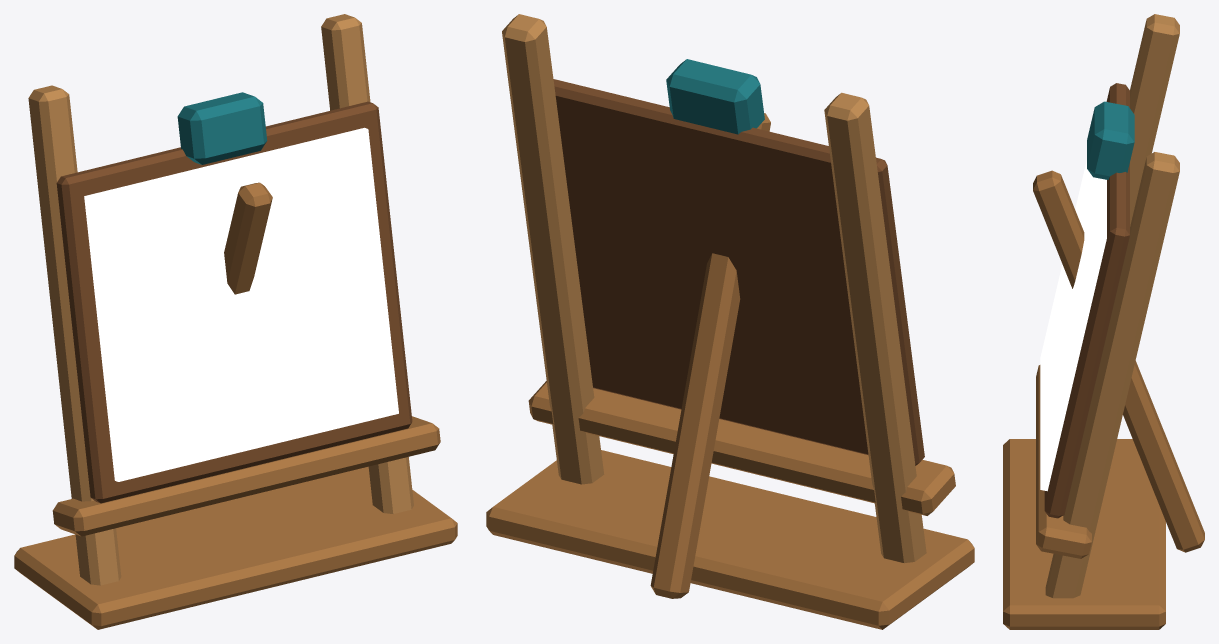
Rendered from easel_display.glb.
The picture shows the model from 3 angles, left to right: view 1: azimuth 30°, elevation 25°; view 2: azimuth 150°, elevation 25°; view 3: azimuth 270°, elevation 25°; orthographic projection. The views are drawn at different scales.
Visible parts, largest first — view 1: easel_display; view 2: easel_display; view 3: easel_display.
Part boxes in pixels (x1,y1,x2,y2): easel_display: (14,14,457,629); easel_display: (486,14,974,629); easel_display: (1003,14,1204,629).
Bounding box in the file's own units: 0.3 × 0.3753 × 0.1486.
